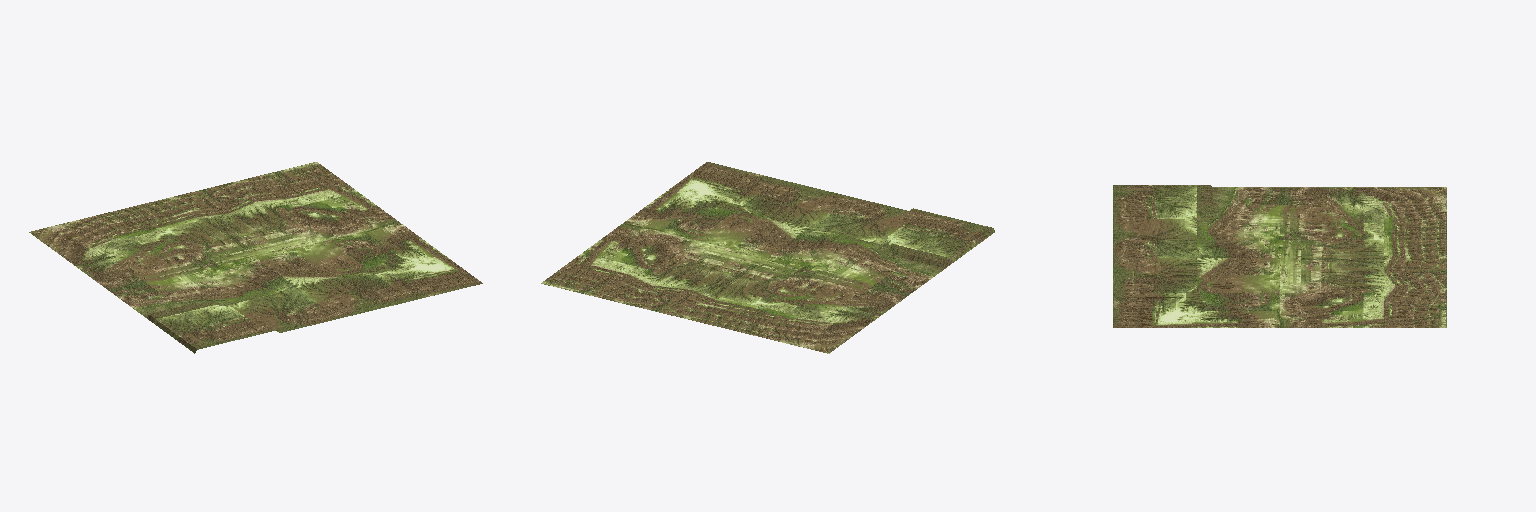
The picture shows the model from 3 angles: view 1: azimuth 30°, elevation 25°; view 2: azimuth 150°, elevation 25°; view 3: azimuth 270°, elevation 25°; orthographic projection.
Parts seen in each view (by area): view 1: TerrainMes; view 2: TerrainMes; view 3: TerrainMes.
Part boxes in pixels (x1,y1,x2,y2): TerrainMes: (29,162,482,353); TerrainMes: (541,162,994,353); TerrainMes: (1113,185,1446,327).
Bounding box in the file's own units: 254 × 3 × 254.
1 materials, 1 textured.